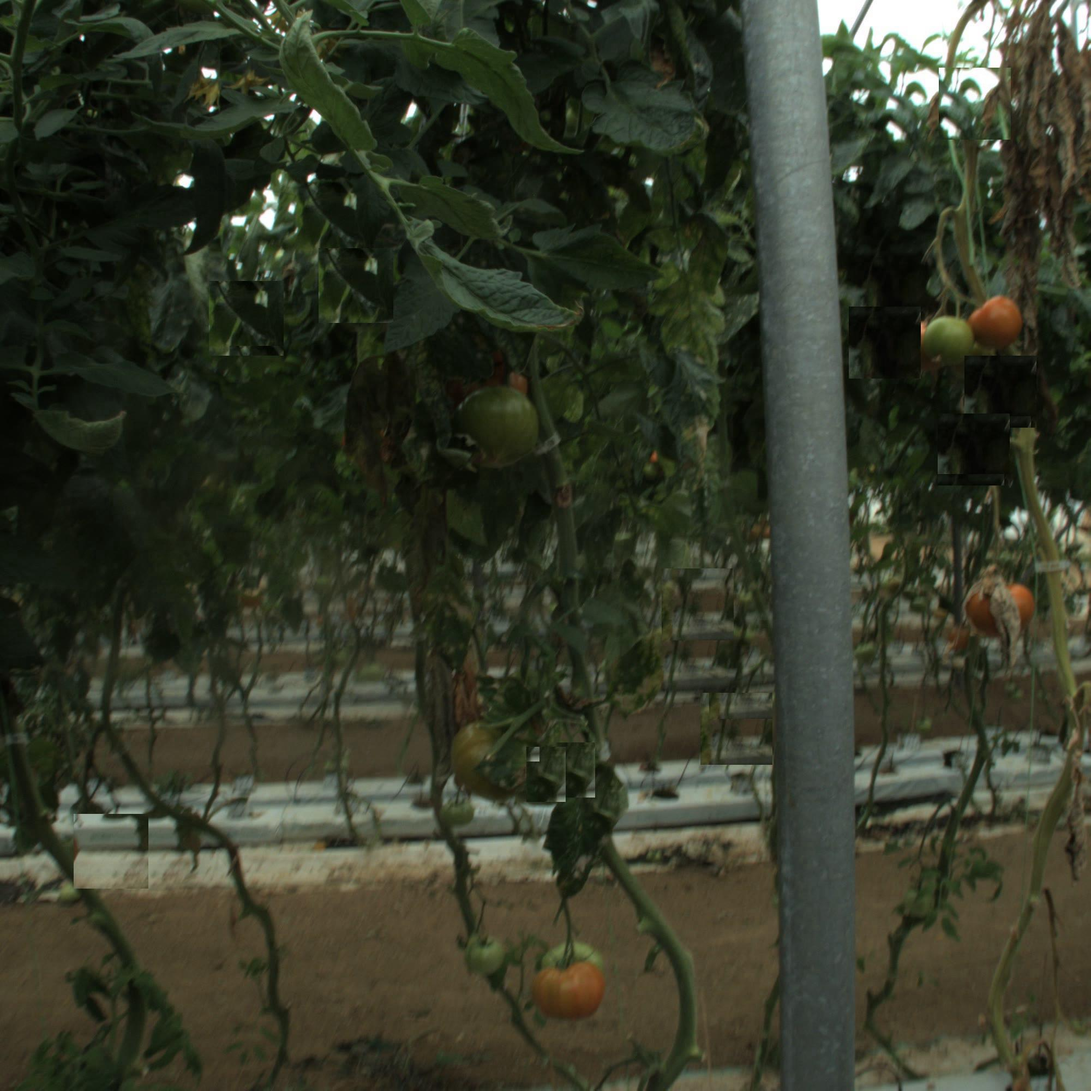fully-ripe: (967, 576, 1038, 646), (536, 954, 604, 1022), (970, 297, 1022, 348)
semi-ripe: (447, 722, 524, 799)
unripe: (455, 385, 541, 471), (922, 316, 973, 368), (464, 934, 505, 976)
